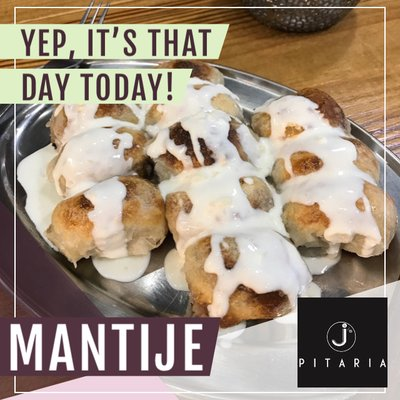sandwich: (4, 62, 393, 325)
